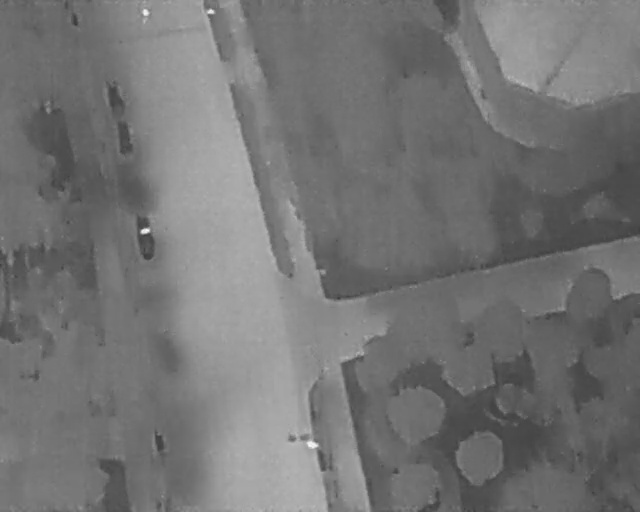Car: (131, 210, 156, 260), (103, 76, 127, 118), (114, 119, 135, 154)
Person: (139, 7, 151, 24)
